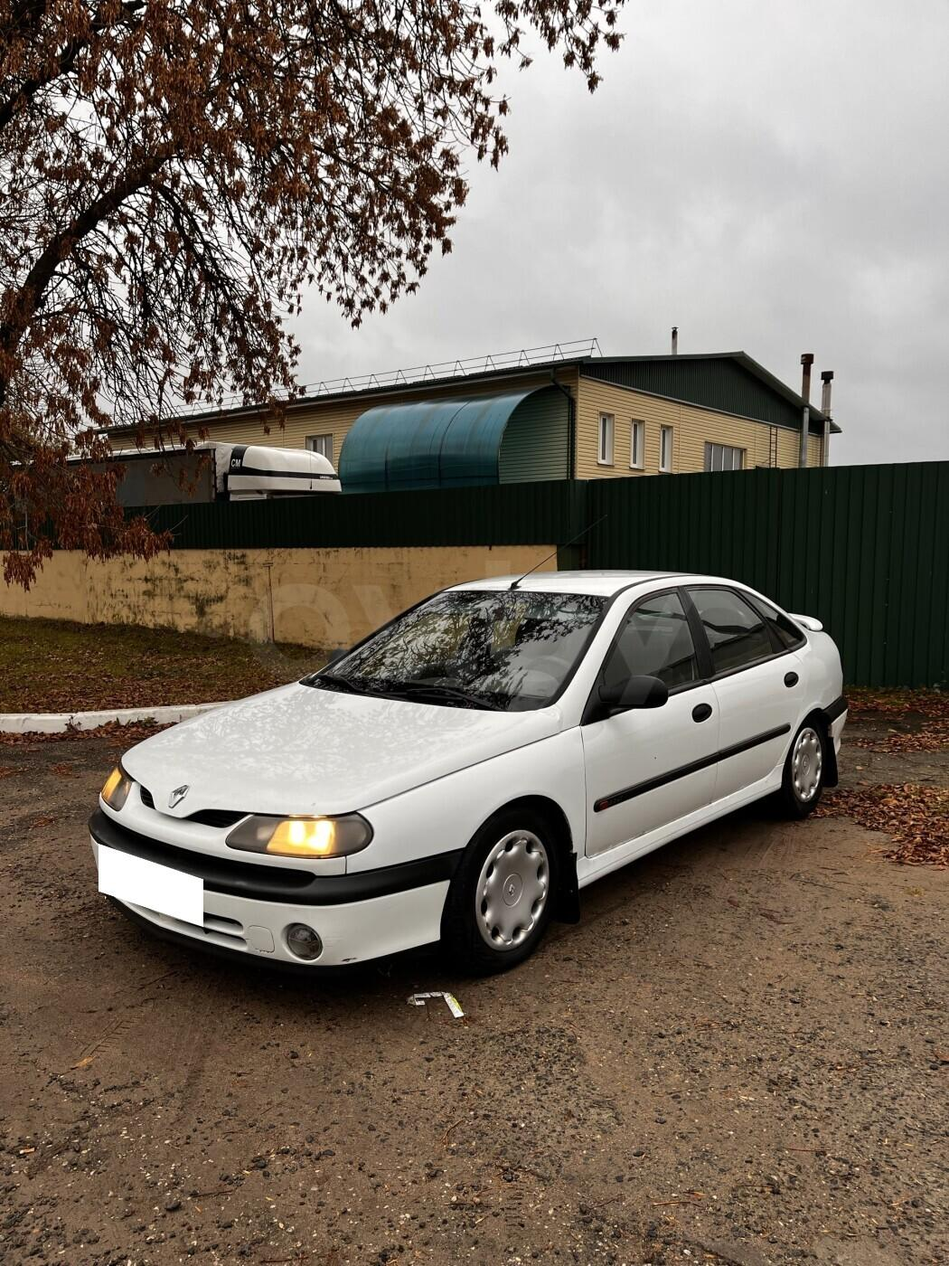Laguna_1998-2001: (85, 561, 860, 984)
